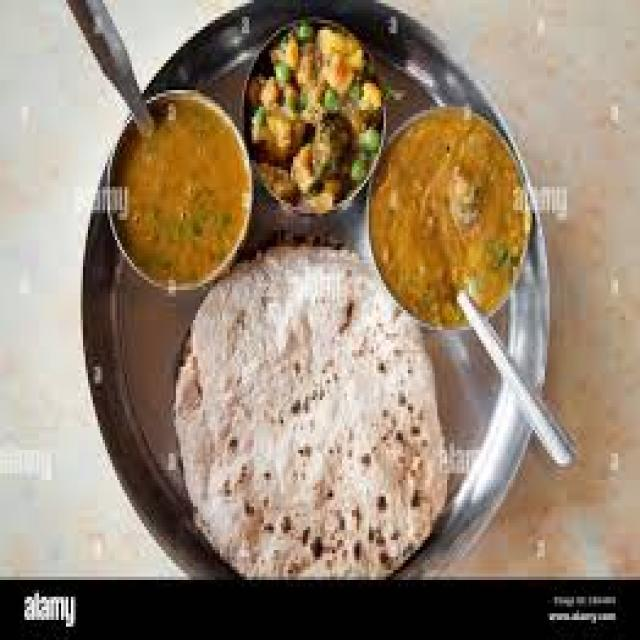dal: (106, 83, 256, 293)
roti: (165, 260, 447, 561)
sambar-rasam: (103, 84, 252, 291)
sweet: (104, 89, 241, 295)
veg-fry: (361, 96, 534, 333)
